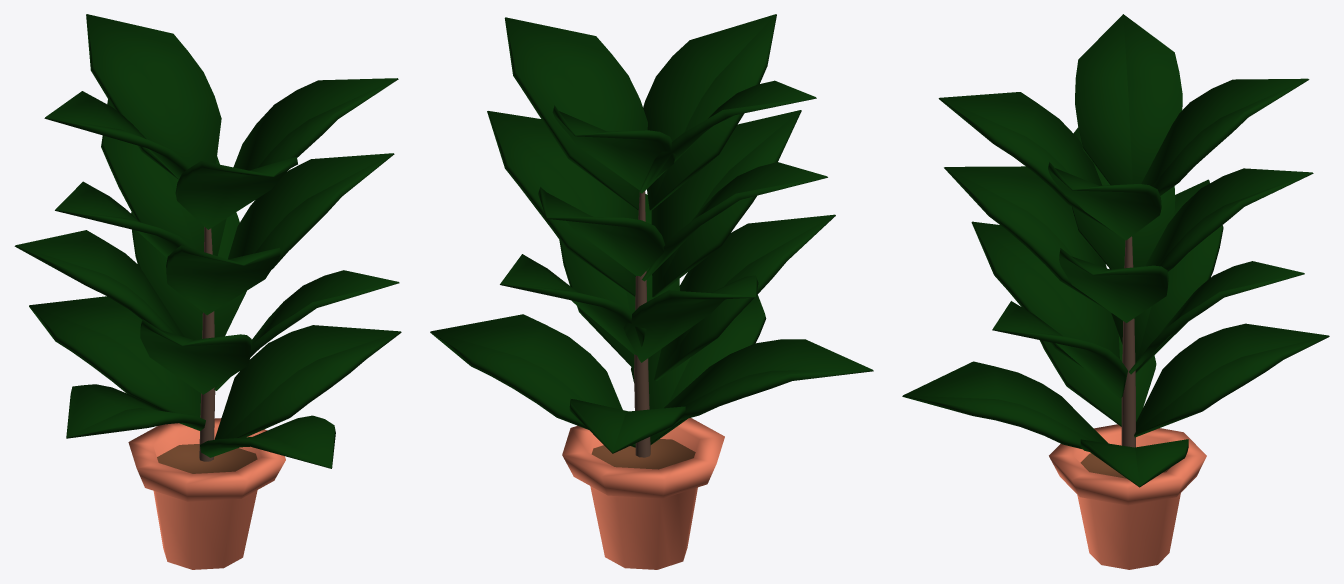
File: props_plant.fbx
3 renders of one model, left to right at view 1: azimuth 30°, elevation 25°; view 2: azimuth 150°, elevation 25°; view 3: azimuth 270°, elevation 25°, orthographic. The views are drawn at different scales.
Parts seen in each view (by area): view 1: Cube.031; view 2: Cube.031; view 3: Cube.031.
Part boxes in pixels (<box>): Cube.031: <box>14,14,401,569</box>; Cube.031: <box>430,14,873,569</box>; Cube.031: <box>902,14,1329,569</box>.
Size of the model in its own units: 237 by 283 by 237.
